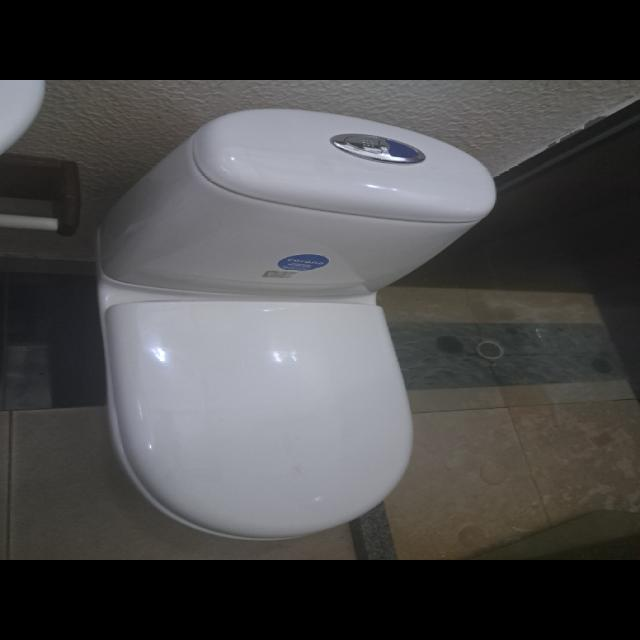toilet: (91, 106, 496, 542)
